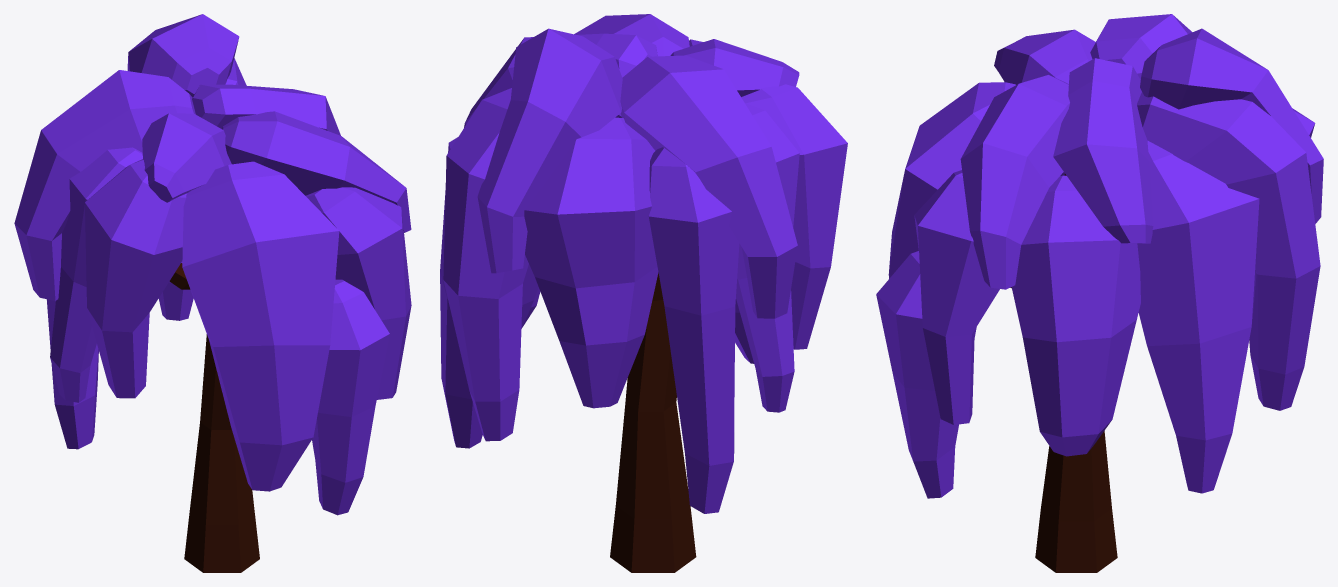
3 views of the same model, side by side, from view 1: azimuth 30°, elevation 25°; view 2: azimuth 150°, elevation 25°; view 3: azimuth 270°, elevation 25° (orthographic). The views are drawn at different scales.
Visible parts, largest first — view 1: Tree_Type6_03_mesh; view 2: Tree_Type6_03_mesh; view 3: Tree_Type6_03_mesh.
Part boxes in pixels (box(x1,y1,x2,y2)): Tree_Type6_03_mesh: box(14, 14, 411, 572); Tree_Type6_03_mesh: box(440, 14, 847, 572); Tree_Type6_03_mesh: box(876, 14, 1323, 572).
Size of the model in its own units: 326 by 486 by 366.
